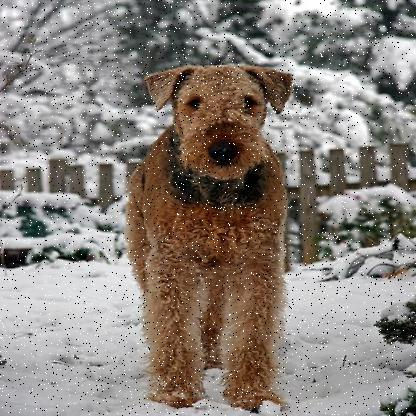dog: (98, 55, 315, 413)
